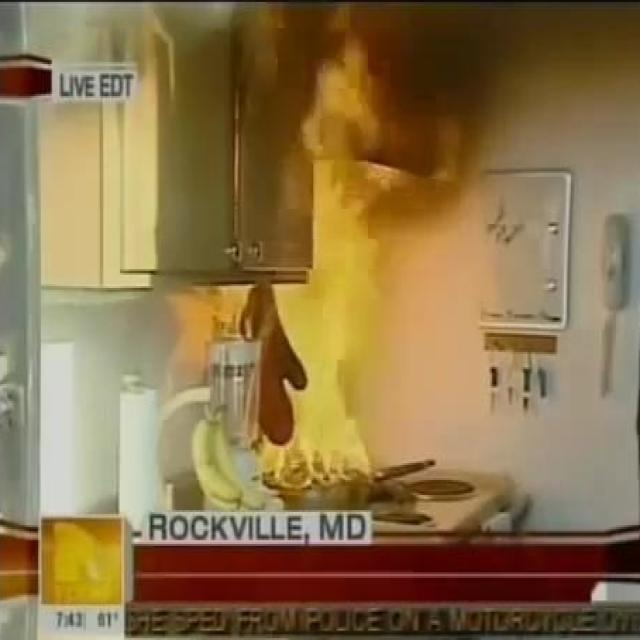fire: (0, 0, 268, 113)
smoke: (270, 28, 394, 490)
